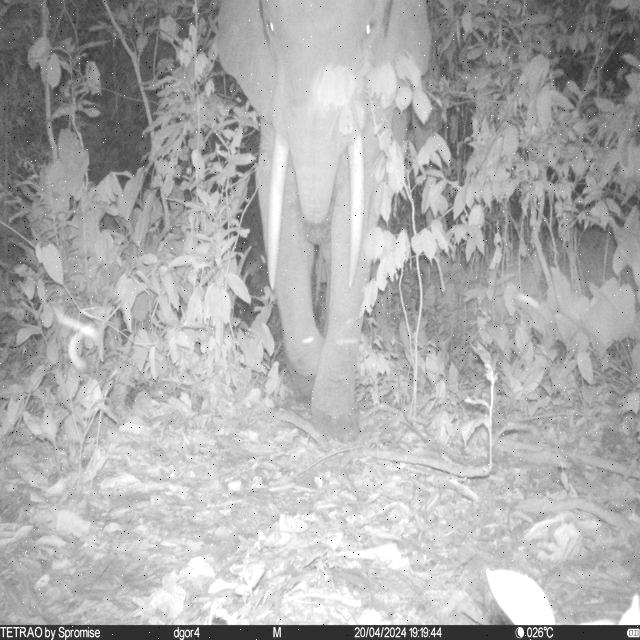ear: (214, 5, 276, 128), (384, 2, 436, 100)
elephant: (212, 0, 435, 444)
tusk: (266, 132, 290, 292), (346, 134, 364, 294)
